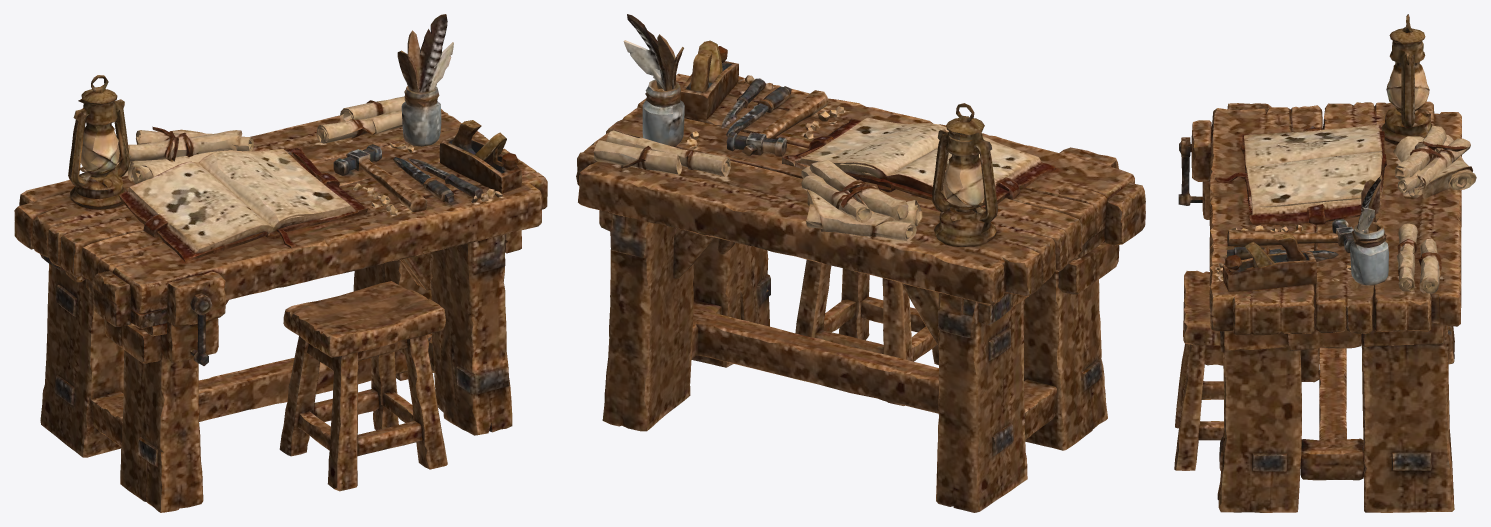
The model's file is workbench_lite.glb.
The picture shows the model from 3 angles, left to right: view 1: azimuth 30°, elevation 25°; view 2: azimuth 150°, elevation 25°; view 3: azimuth 270°, elevation 25°; orthographic projection. The views are drawn at different scales.
Visible parts, largest first — view 1: geometry_0; view 2: geometry_0; view 3: geometry_0.
Part boxes in pixels (left/top/right/bottom): geometry_0: left=14, top=14, right=547, bottom=512; geometry_0: left=576, top=14, right=1145, bottom=512; geometry_0: left=1174, top=14, right=1476, bottom=512.
Size of the model in its own units: 1.9 by 1.49 by 1.18.
Materials: 1 (1 with a texture image).
